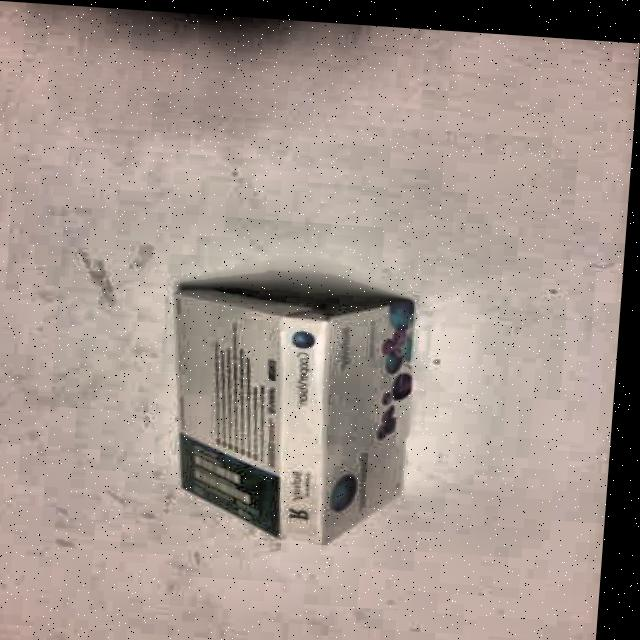paper: (154, 283, 417, 551)
